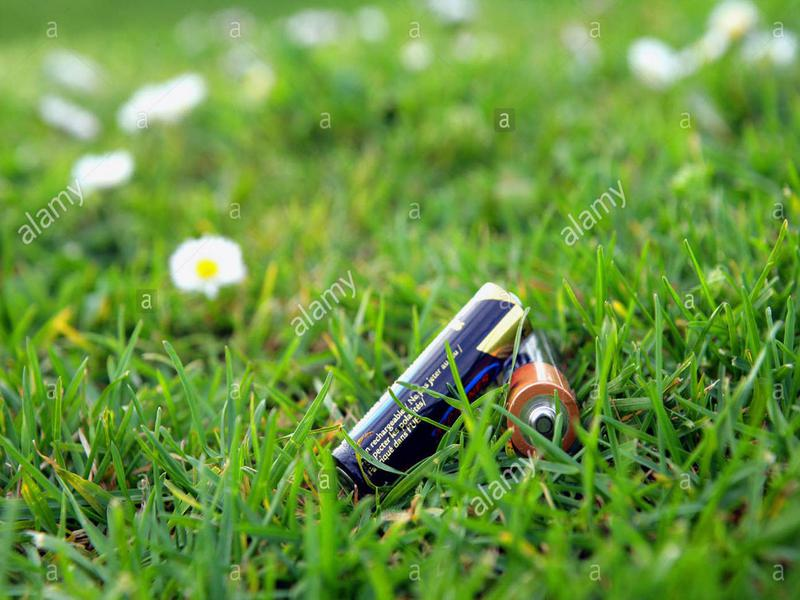battery: (321, 267, 536, 511), (494, 324, 595, 463)
